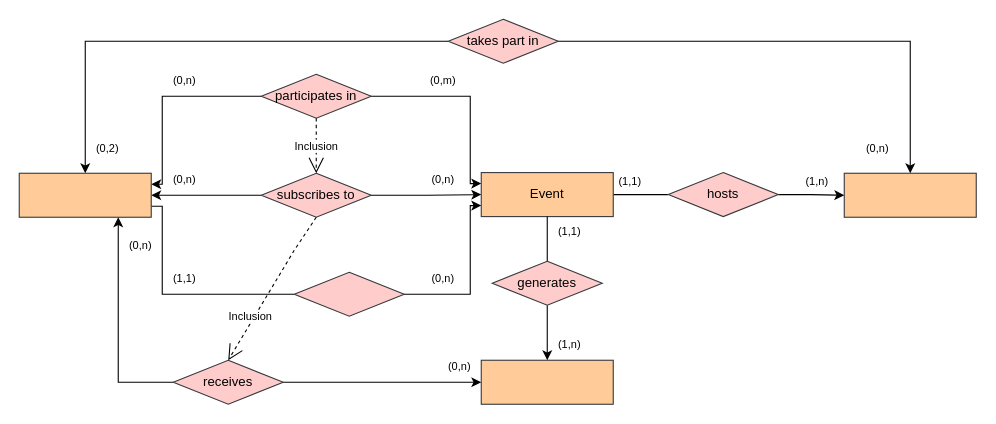
Image size: 996x424. Some labels were removed from this diagram. Each missing label, with the centre of its shape:
"creates" belongs at [348,293].
"Match" belongs at [909,194].
"Notification" belongs at [546,381].
"User" belongs at [84,194].
